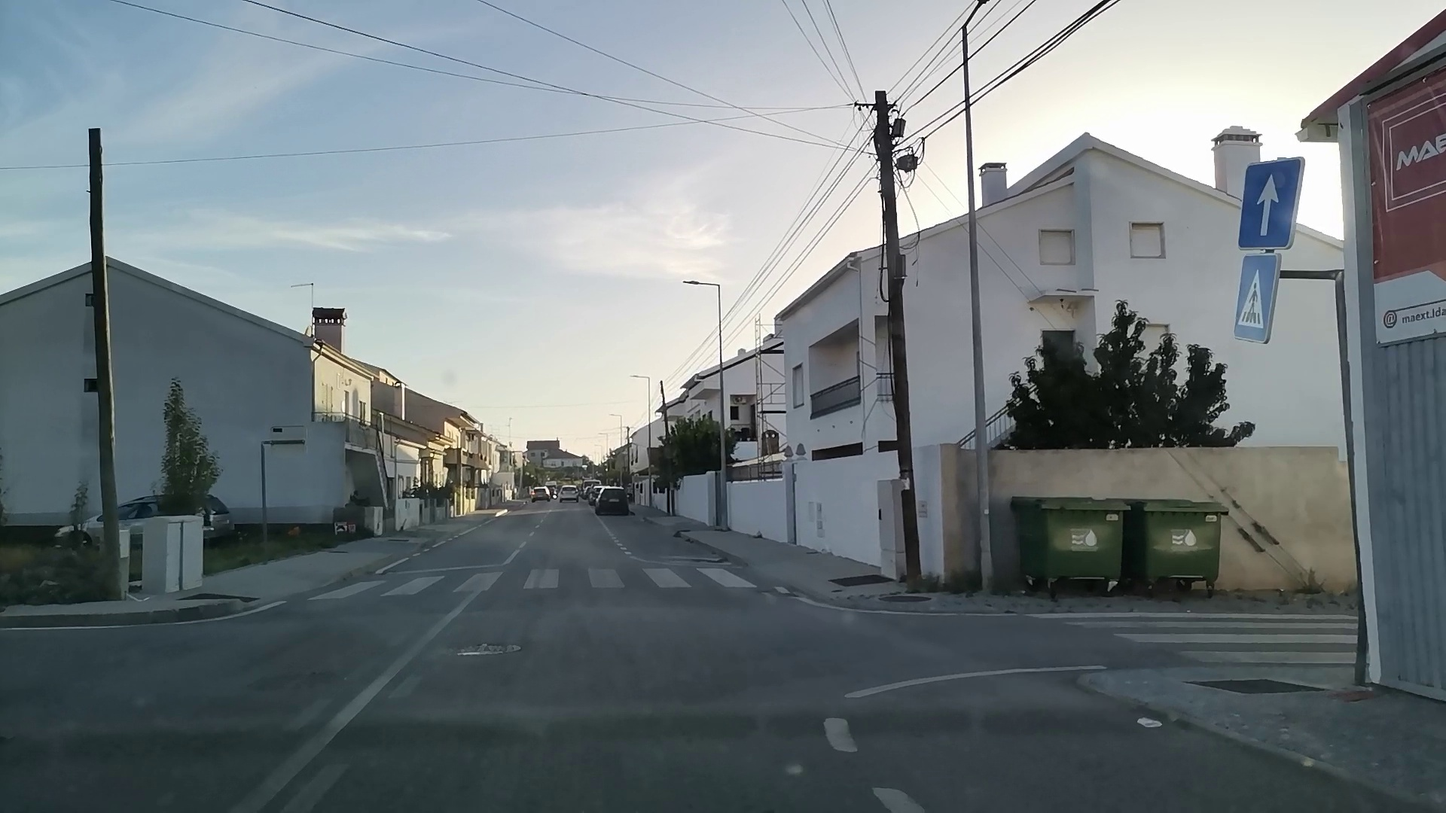Stairs: (1043, 597, 1381, 669), (311, 564, 759, 596)
